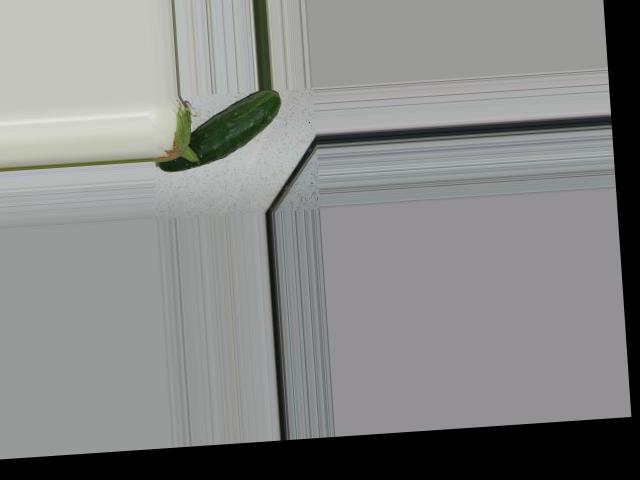cucumber: (151, 88, 285, 172)
